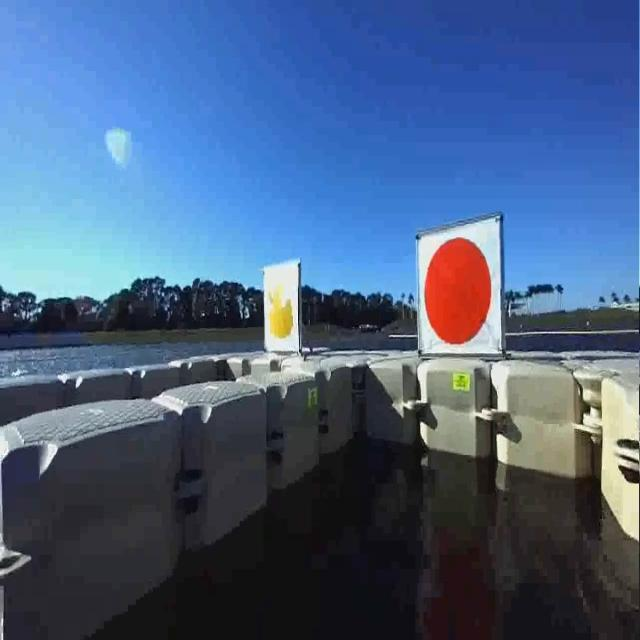red-dot: (417, 230, 497, 353)
yellow-duck: (264, 268, 296, 349)
